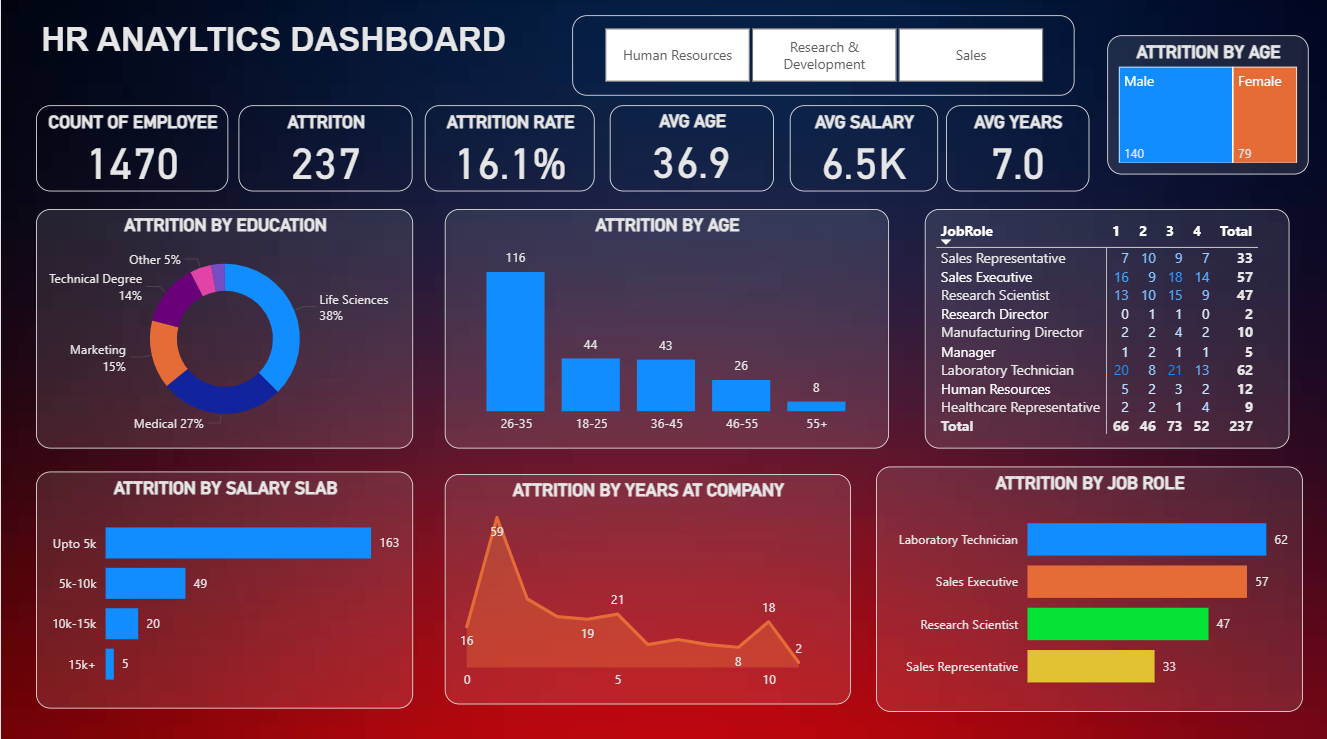

The page's visual inventory and layout, read from the dashboard file:
{"tool":"powerbi","page":{"name":"Page 1","canvas":[1280,720],"ordinal":0},"visuals":[{"type":"card","title":"COUNT OF EMPLOYEE","fields":{"Values":["Count(HR_Analytics.EmpID)"]},"box":[33.3,102.4,185.7,83.3],"z":0},{"type":"card","title":"ATTRITON","fields":{"Values":["Sum(HR_Analytics.AttritionCount)"]},"box":[229.8,102.4,167.9,83.3],"z":1000},{"type":"card","title":"AVG AGE ","fields":{"Values":["Avg(HR_Analytics.Age)"]},"box":[588.1,102.4,158.3,83.3],"z":2000},{"type":"card","title":"ATTRITION RATE","fields":{"Values":["HR_Analytics.AttritionRate"]},"box":[409.5,102.4,164.3,83.3],"z":3000},{"type":"card","title":"AVG SALARY","fields":{"Values":["Avg(HR_Analytics.MonthlyIncome)"]},"box":[760.7,102.4,142.9,83.3],"z":4000},{"type":"card","title":"AVG YEARS","fields":{"Values":["Avg(HR_Analytics.YearsAtCompany)"]},"box":[911.9,102.4,138.1,83.3],"z":5000},{"type":"pieChart","title":"ATTRITION BY EDUCATION","fields":{"Category":["HR_Analytics.EducationField"],"Y":["Sum(HR_Analytics.AttritionCount)"]},"box":[33.3,202.4,364.3,231],"z":6000},{"type":"columnChart","title":"ATTRITION BY AGE","fields":{"Category":["HR_Analytics.AgeGroup"],"Y":["Sum(HR_Analytics.AttritionCount)"]},"box":[428.6,202.4,428.6,231],"z":7000},{"type":"pivotTable","fields":{"Rows":["HR_Analytics.JobRole"],"Columns":["HR_Analytics.JobSatisfaction"],"Values":["Sum(HR_Analytics.AttritionCount)"]},"box":[891.7,202.4,352.4,231],"z":8000},{"type":"barChart","title":"ATTRITION BY SALARY SLAB","fields":{"Category":["HR_Analytics.SalarySlab"],"Y":["Sum(HR_Analytics.AttritionCount)"]},"box":[33.3,456,364.3,228.6],"z":9000},{"type":"barChart","title":"ATTRITION BY JOB ROLE","fields":{"Category":["HR_Analytics.JobRole"],"Y":["Sum(HR_Analytics.AttritionCount)"]},"box":[844,451.2,411.9,236.9],"z":10000},{"type":"areaChart","title":"ATTRITION BY YEARS AT COMPANY","fields":{"Category":["HR_Analytics.YearsAtCompany"],"Y":["Sum(HR_Analytics.AttritionCount)"]},"box":[428.6,458.3,391.7,222.6],"z":11000},{"type":"treemap","title":"ATTRITION BY AGE","fields":{"Group":["HR_Analytics.Gender"],"Values":["Sum(HR_Analytics.AttritionCount)"]},"box":[1067.9,34.5,194,134.5],"z":12000},{"type":"slicer","fields":{"Values":["HR_Analytics.Department"]},"box":[551.2,15.5,484.5,77.4],"z":13000},{"type":"textbox","box":[33.3,16.7,517.9,77.4],"z":14000}]}

Visuals, with their boxes in screenshot pixels (x1, y1, x2, y2), scaled from the page's 1280x720 canvas onto the 1327x739 screenshot:
"COUNT OF EMPLOYEE" card: (35,105,227,191)
"ATTRITON" card: (238,105,412,191)
"AVG AGE " card: (610,105,774,191)
"ATTRITION RATE" card: (425,105,595,191)
"AVG SALARY" card: (789,105,937,191)
"AVG YEARS" card: (945,105,1089,191)
"ATTRITION BY EDUCATION" pieChart: (35,208,412,445)
"ATTRITION BY AGE" columnChart: (444,208,889,445)
pivotTable - HR_Analytics.JobRole x HR_Analytics.JobSatisfaction: (924,208,1290,445)
"ATTRITION BY SALARY SLAB" barChart: (35,468,412,703)
"ATTRITION BY JOB ROLE" barChart: (875,463,1302,706)
"ATTRITION BY YEARS AT COMPANY" areaChart: (444,470,850,699)
"ATTRITION BY AGE" treemap: (1107,35,1308,173)
slicer - HR_Analytics.Department: (571,16,1074,95)
textbox: (35,17,571,97)
